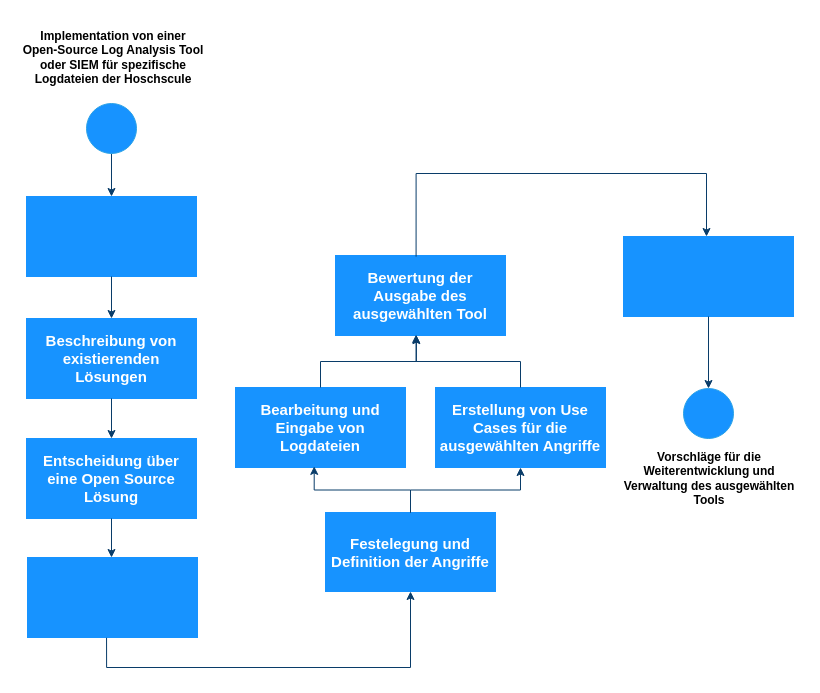
The diagram is 820 pixels wide and 693 high, and some of its shapes have lost their labels. Each missing label, with the centre of its shape:
"Darstellung der Ergebnisse" goes at (708,276).
"Definition von SIEM und Log Analysis Tool" goes at (111,236).
"Implementation des ausgewählten Tools" goes at (112,597).
